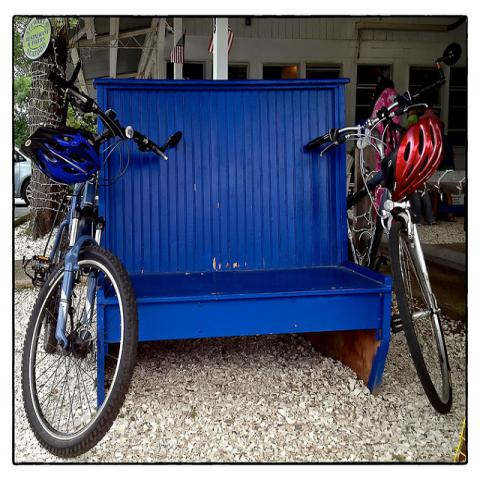car: (15, 146, 32, 206)
